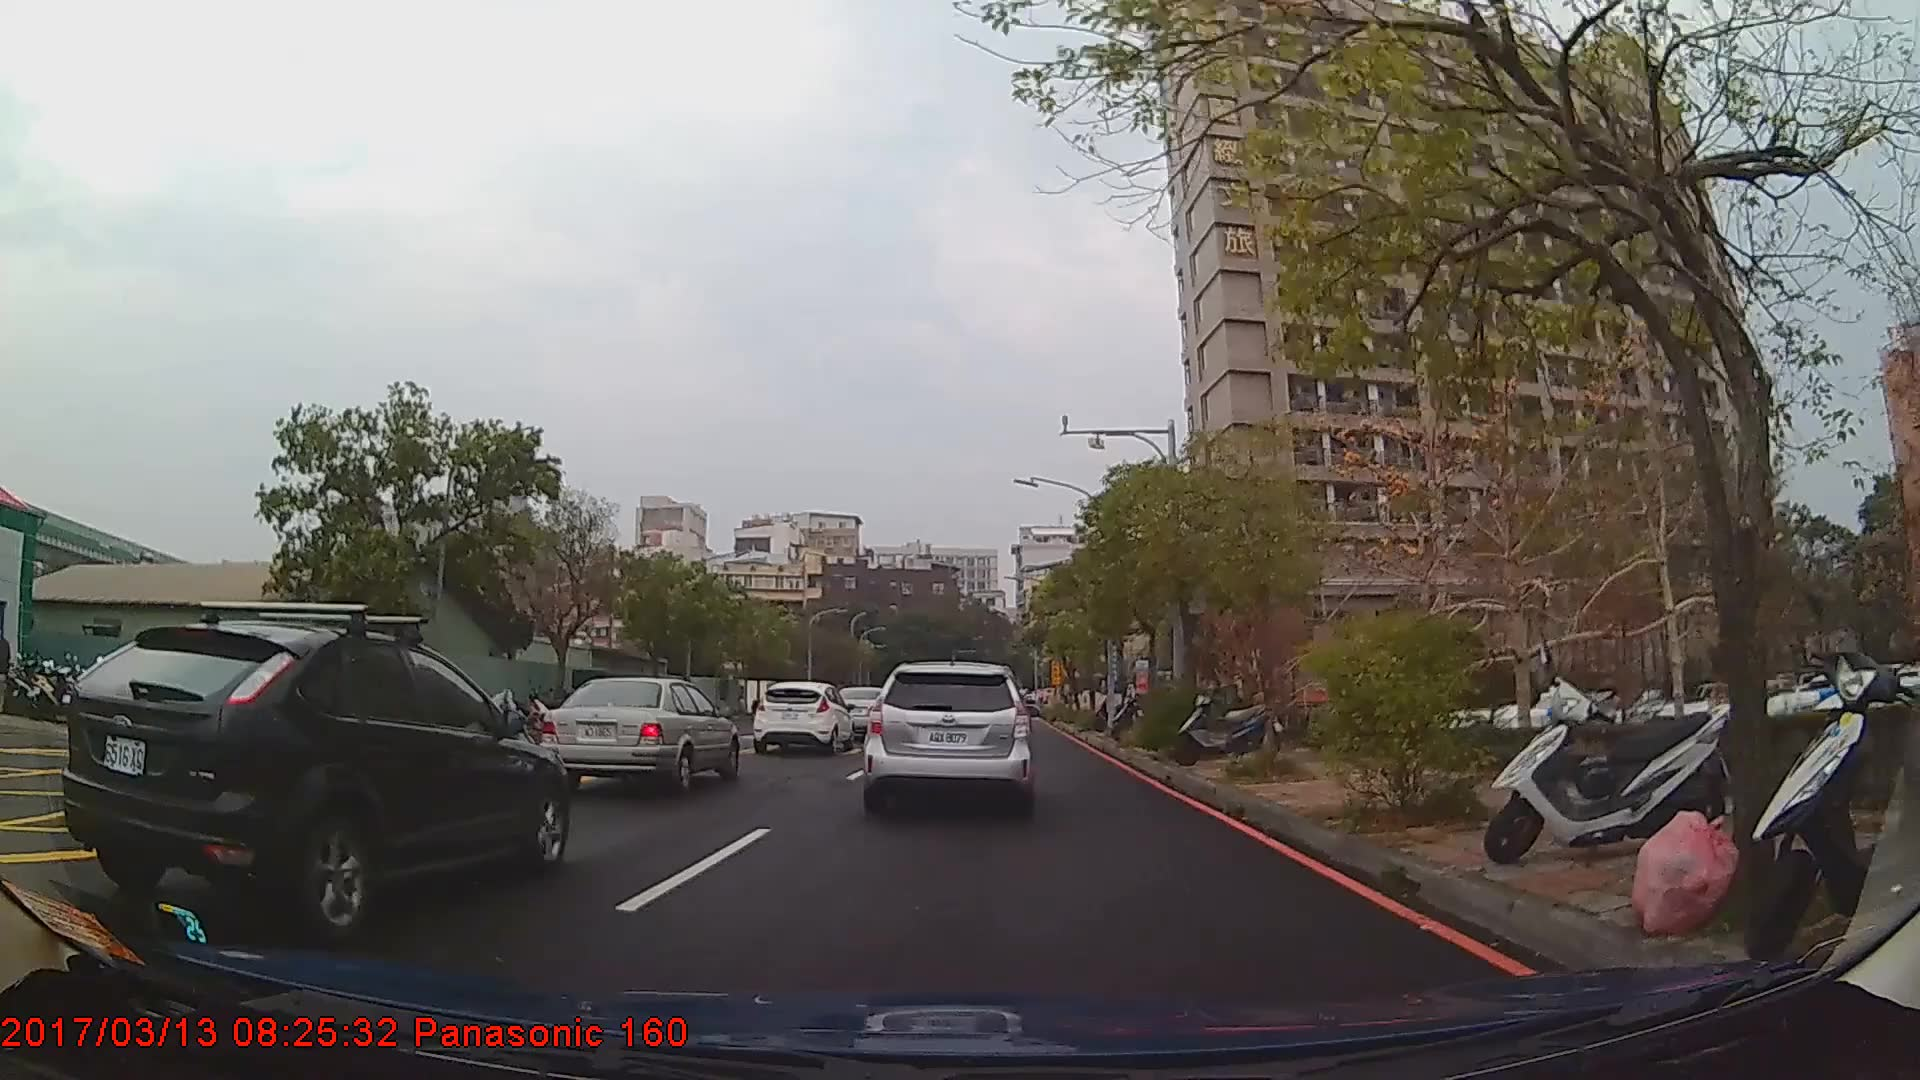pedestrian: (1, 624, 21, 725)
vehicle: (59, 620, 570, 935), (861, 659, 1033, 813), (536, 674, 739, 791), (748, 679, 851, 753)
